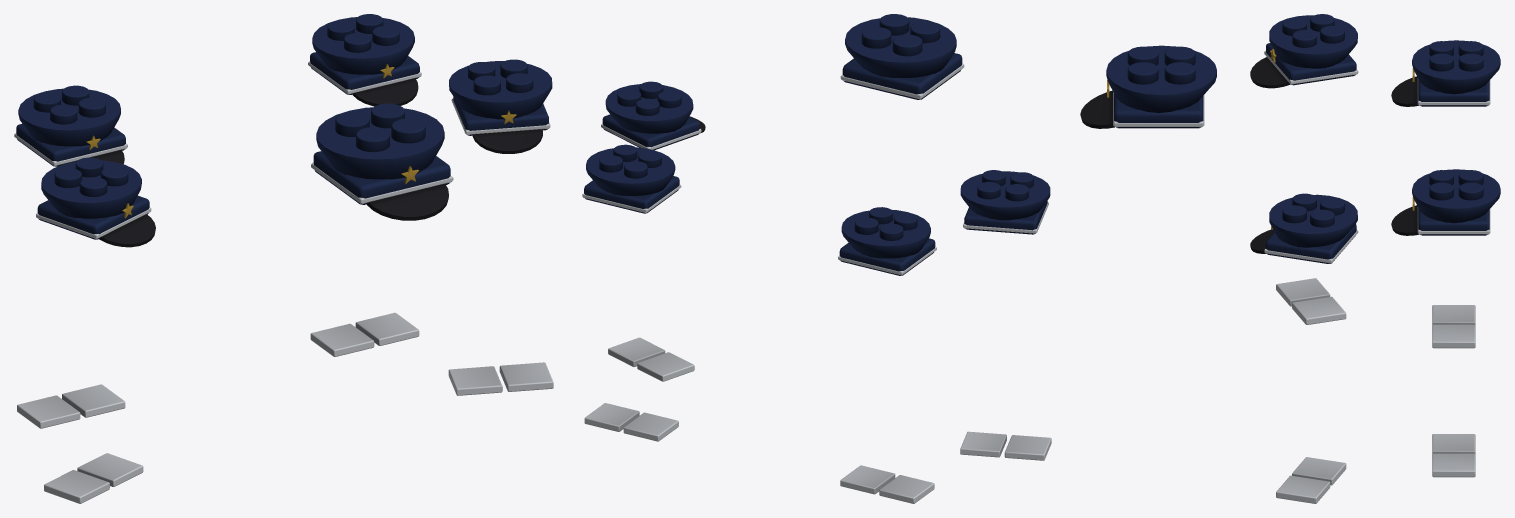
Rendered from bubble-patrol-lod0.glb.
The picture shows the model from 3 angles, left to right: view 1: azimuth 30°, elevation 25°; view 2: azimuth 150°, elevation 25°; view 3: azimuth 270°, elevation 25°; orthographic projection. The views are drawn at different scales.
Parts seen in each view (by area): view 1: cap_hat, att3_hat, att0_hat, att2_hat, att1_hat, att3_leg_r_trim, att0_leg_r_trim, att1_leg_r_trim, att0_leg_l_trim, att1_leg_l_trim, att2_leg_l_trim, att2_leg_r_trim (+1 smaller); view 2: cap_hat, att2_hat, att0_hat, att1_hat, att3_hat, att2_leg_r_trim, att0_leg_r_trim, att1_leg_r_trim, att0_leg_l_trim, att1_leg_l_trim, att3_leg_r_trim, att3_leg_l_trim (+1 smaller); view 3: cap_hat, att3_hat, att0_hat, att1_hat, att2_hat, att2_leg_l_trim, att3_leg_l_trim, att0_leg_l_trim, att1_leg_l_trim, att2_leg_r_trim, att3_leg_r_trim, att0_leg_r_trim (+1 smaller).
Boxes of the visible parts, x1=… form: cap_hat: x1=311, y1=103, x2=453, y2=220; att3_hat: x1=36, y1=157, x2=155, y2=247; att0_hat: x1=308, y1=14, x2=421, y2=106; att2_hat: x1=449, y1=59, x2=552, y2=153; att1_hat: x1=14, y1=85, x2=127, y2=166; att3_leg_r_trim: x1=44, y1=470, x2=109, y2=503; att0_leg_r_trim: x1=310, y1=323, x2=374, y2=356; att1_leg_r_trim: x1=17, y1=395, x2=80, y2=428; att0_leg_l_trim: x1=355, y1=312, x2=419, y2=345; att1_leg_l_trim: x1=62, y1=384, x2=125, y2=417; att2_leg_l_trim: x1=499, y1=362, x2=553, y2=391; att2_leg_r_trim: x1=448, y1=366, x2=502, y2=395; cap_hat: x1=840, y1=14, x2=964, y2=99; att2_hat: x1=601, y1=81, x2=705, y2=150; att0_hat: x1=582, y1=144, x2=681, y2=213; att1_hat: x1=838, y1=207, x2=936, y2=275; att3_hat: x1=960, y1=170, x2=1050, y2=234; att2_leg_r_trim: x1=637, y1=352, x2=694, y2=381; att0_leg_r_trim: x1=623, y1=412, x2=678, y2=441; att1_leg_r_trim: x1=879, y1=475, x2=934, y2=503; att0_leg_l_trim: x1=584, y1=403, x2=639, y2=431; att1_leg_l_trim: x1=840, y1=465, x2=895, y2=494; att3_leg_r_trim: x1=1004, y1=435, x2=1051, y2=460; att3_leg_l_trim: x1=960, y1=431, x2=1006, y2=457; cap_hat: x1=1080, y1=45, x2=1216, y2=128; att3_hat: x1=1250, y1=14, x2=1358, y2=88; att0_hat: x1=1391, y1=169, x2=1500, y2=235; att1_hat: x1=1391, y1=40, x2=1500, y2=106; att2_hat: x1=1250, y1=193, x2=1358, y2=263; att2_leg_l_trim: x1=1276, y1=475, x2=1330, y2=503; att3_leg_l_trim: x1=1292, y1=296, x2=1346, y2=324; att0_leg_l_trim: x1=1432, y1=453, x2=1475, y2=477; att1_leg_l_trim: x1=1432, y1=324, x2=1475, y2=348; att2_leg_r_trim: x1=1292, y1=457, x2=1346, y2=485; att3_leg_r_trim: x1=1276, y1=278, x2=1330, y2=306; att0_leg_r_trim: x1=1432, y1=434, x2=1475, y2=454.
Bounding box in the file's own units: 2.12 × 1.5 × 1.71.
